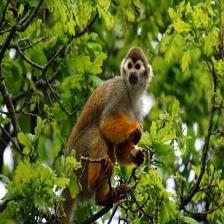monkey: (72, 41, 152, 197)
